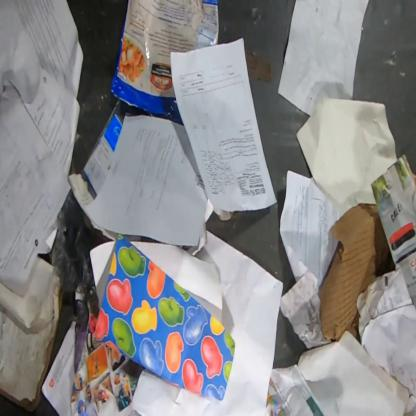cardboard: (0, 257, 64, 412), (83, 132, 114, 196)
soft_plastic: (111, 0, 220, 125), (69, 90, 124, 175), (49, 188, 92, 292), (104, 114, 122, 152)
